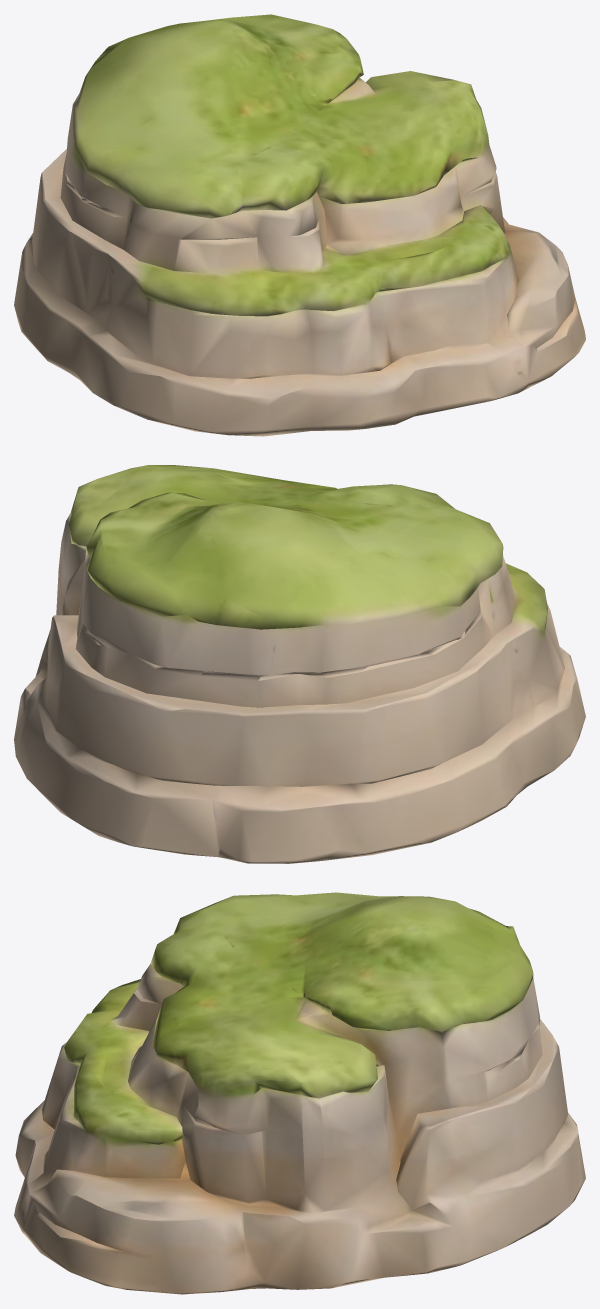
Rendered from toy-hill-mobile.glb.
3 views of the same model, one above another, from view 1: azimuth 30°, elevation 25°; view 2: azimuth 150°, elevation 25°; view 3: azimuth 270°, elevation 25° (orthographic). The views are drawn at different scales.
Parts seen in each view (by area): view 1: model; view 2: model; view 3: model.
Part boxes in pixels (bbox=[...]): model: bbox=[14, 14, 585, 436]; model: bbox=[14, 465, 585, 863]; model: bbox=[14, 892, 585, 1294].
Size of the model in its own units: 1.76 by 0.9477 by 1.9.
Materials: 1 (1 with a texture image).
